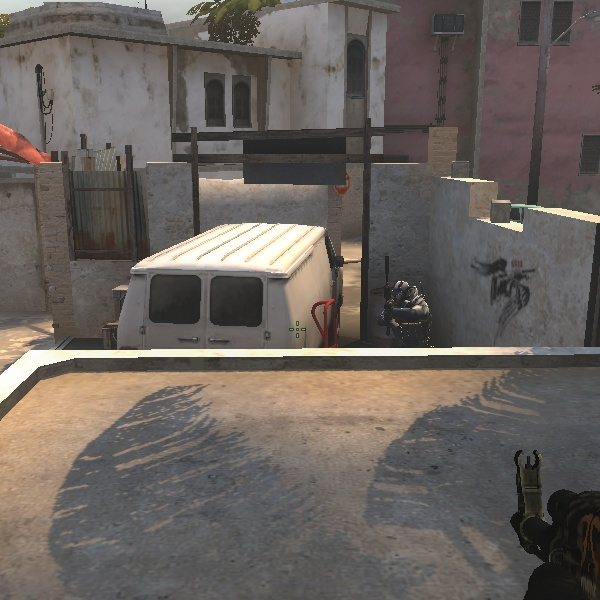t_body: (376, 275, 437, 341)
